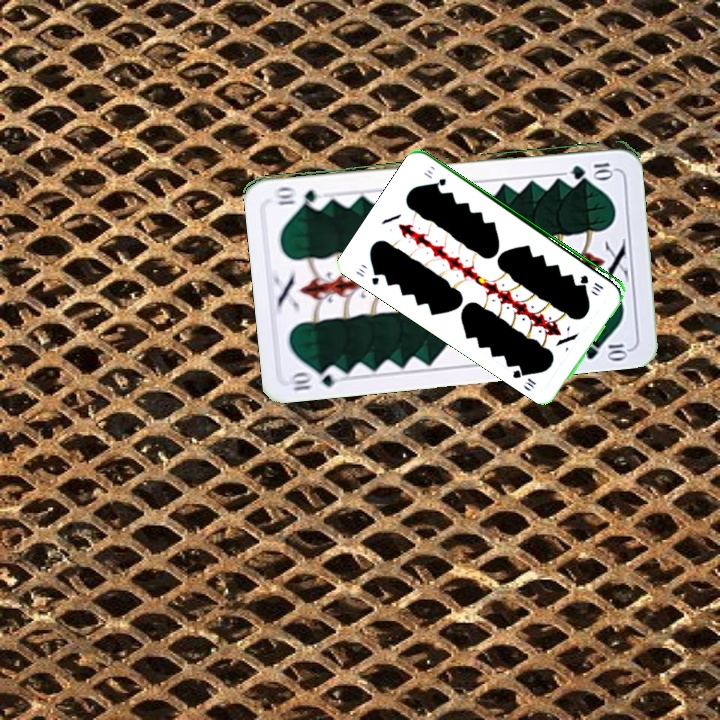G10: (287, 362, 346, 394), (566, 158, 616, 179), (352, 264, 383, 287), (576, 271, 606, 292)
